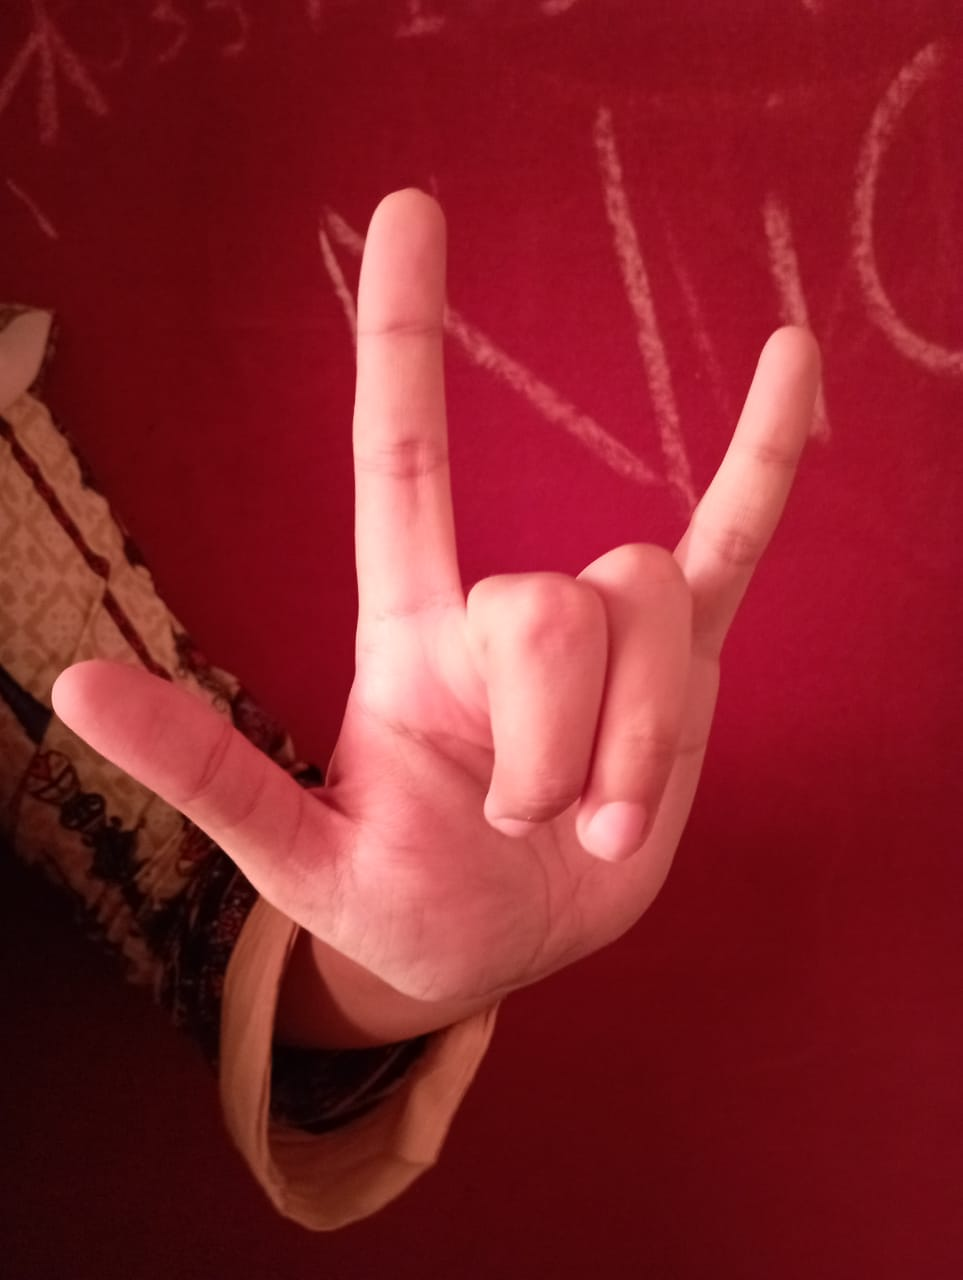Loved It: (46, 176, 838, 1021)
